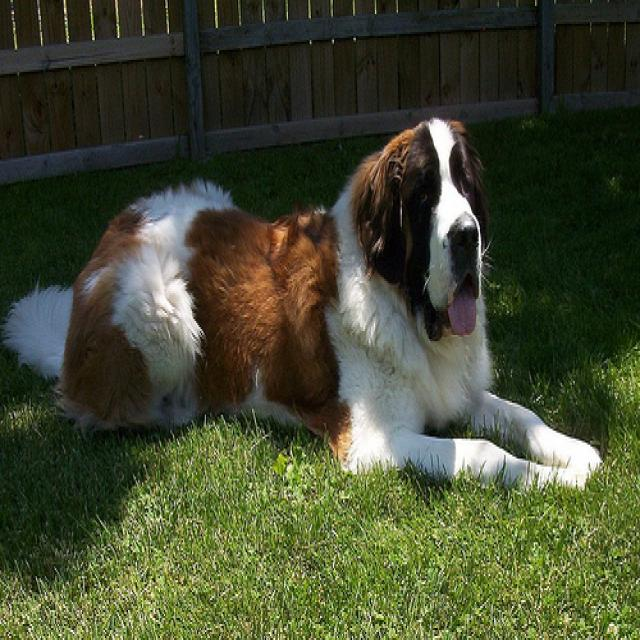dog: (356, 118, 485, 333)
